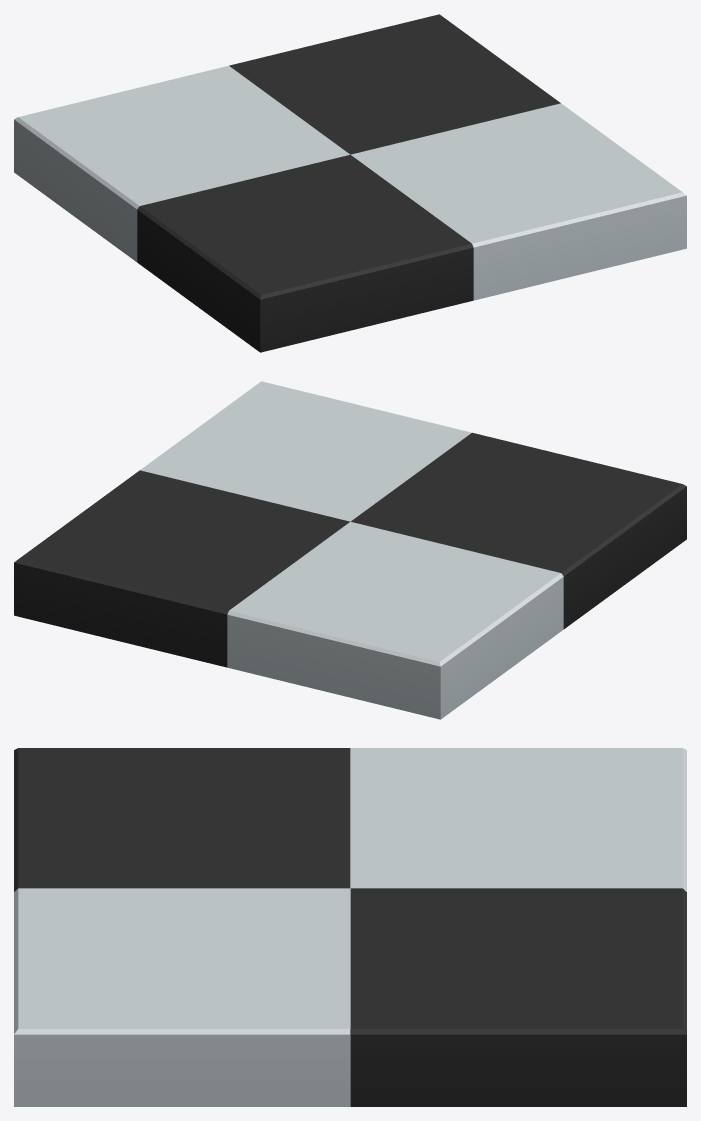
The model's file is floor_kitchen.obj.
The picture shows the model from 3 angles, top to bottom: view 1: azimuth 30°, elevation 25°; view 2: azimuth 150°, elevation 25°; view 3: azimuth 270°, elevation 25°; orthographic projection. The views are drawn at different scales.
Visible parts, largest first — view 1: floor_kitchen_Plane.001; view 2: floor_kitchen_Plane.001; view 3: floor_kitchen_Plane.001.
Boxes of the visible parts, x1,y1,x2,y2 form: floor_kitchen_Plane.001: [14, 14, 686, 352]; floor_kitchen_Plane.001: [14, 381, 686, 719]; floor_kitchen_Plane.001: [14, 748, 686, 1106].
Bounding box in the file's own units: 4 × 0.5 × 4.
Materials: 1 (1 with a texture image).
